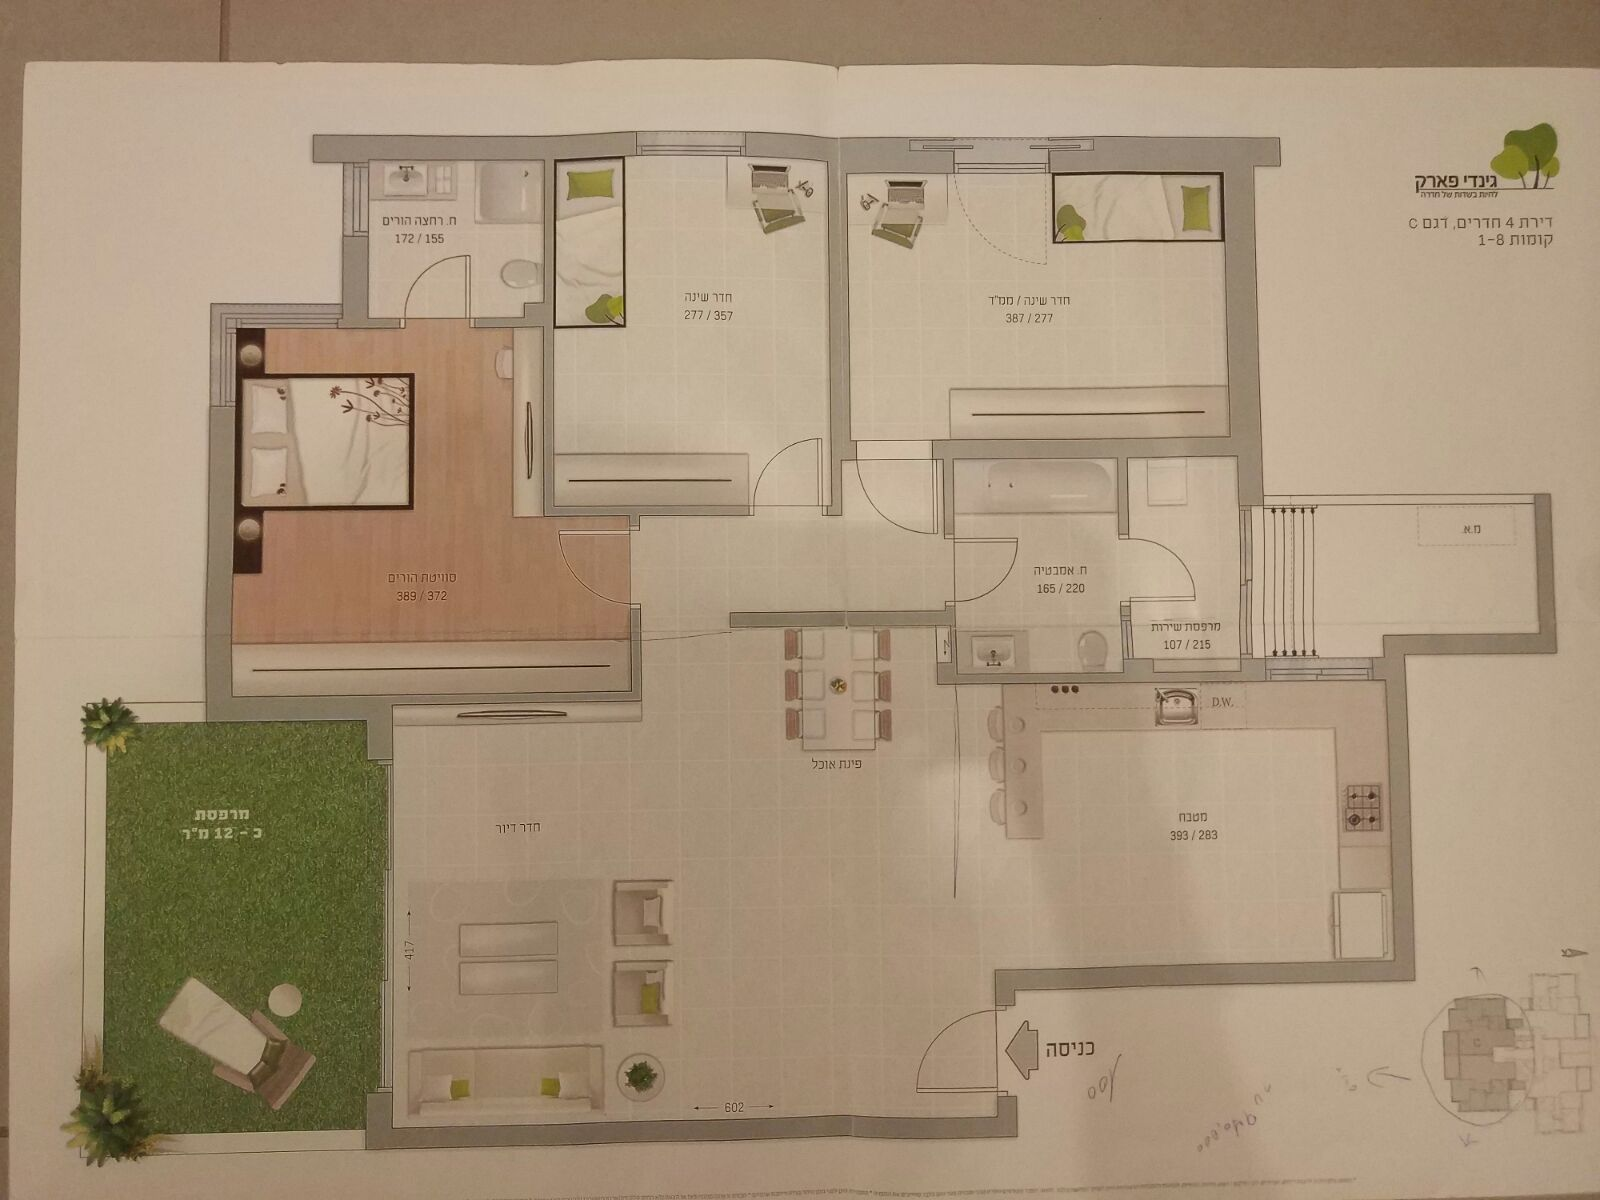door: (905, 1005, 1004, 1108), (855, 458, 944, 545), (751, 430, 831, 522), (1114, 538, 1204, 608), (947, 529, 1026, 603)
wall: (1230, 166, 1266, 502), (209, 408, 232, 727)
